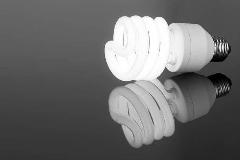lightbulb: (109, 72, 232, 148), (103, 14, 230, 82), (108, 80, 176, 148), (163, 73, 231, 124), (166, 22, 230, 74)
